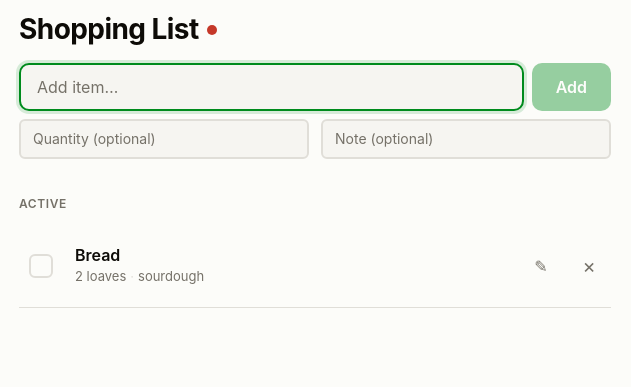
Scenario: Task 4 — Inline edit mode › AC6: Cancel returns to display mode with original values
Expected: the text "Bread" is shown, [75,245,120,265]
Click the button named "edit bread". click: (541, 266)
box: [519,244,563,288]
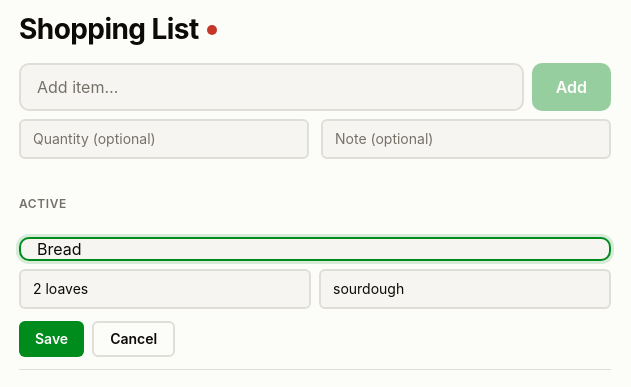
Now the field named "Edit item name" holds "Bread"
Replace the text in the field named "Edit item name" with "Something Different". click: (315, 249)
box: [19,237,611,261]
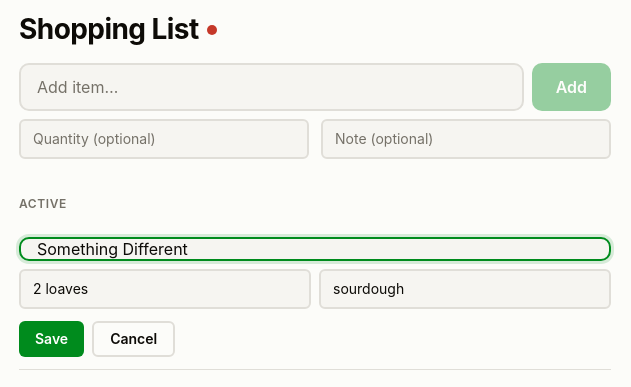
Click the button with aria-label "cancel editing". click: (134, 339)
box: [92,321,175,357]
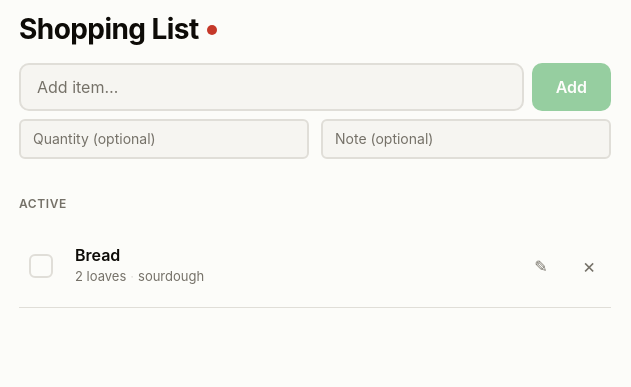
Now the text "Bread" is shown, box [75,245,120,265]
